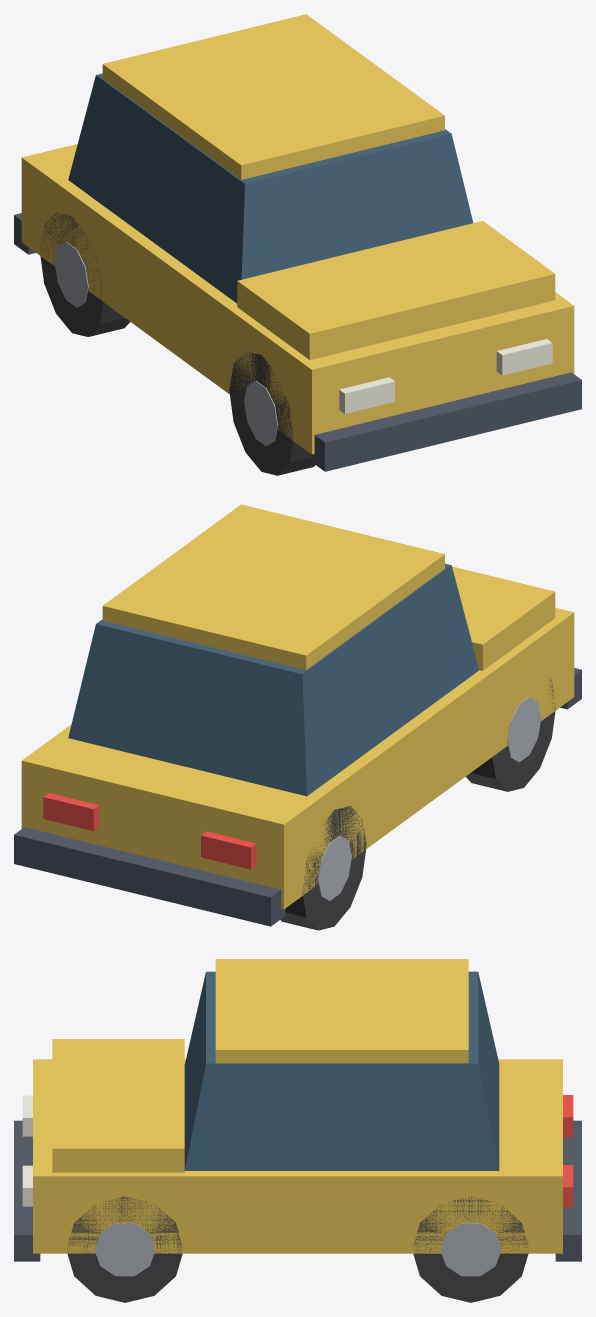
The model's file is traffic_suv_yellow.glb.
3 renders of one model, top to bottom at view 1: azimuth 30°, elevation 25°; view 2: azimuth 150°, elevation 25°; view 3: azimuth 270°, elevation 25°, orthographic. The views are drawn at different scales.
Parts seen in each view (by area): view 1: lower_body, cabin, roof, hood, front_bumper, wheel_L_front_tire, wheel_L_rear_tire, wheel_L_front_rim, wheel_L_rear_rim, headlight_+0.56, headlight_-0.56; view 2: lower_body, cabin, roof, rear_bumper, hood, wheel_L_rear_tire, wheel_L_front_tire, wheel_L_rear_rim, wheel_L_front_rim, taillight_+0.56, taillight_-0.56; view 3: lower_body, cabin, roof, hood, wheel_R_front_tire, wheel_R_rear_tire, wheel_R_rear_rim, wheel_R_front_rim, front_bumper, rear_bumper, taillight_-0.56, taillight_+0.56 (+2 smaller).
Boxes of the visible parts, x1,y1,x2,y2 form: lower_body: (21, 144, 574, 454); cabin: (68, 73, 473, 303); roof: (102, 14, 444, 179); hood: (237, 221, 555, 359); front_bumper: (310, 372, 581, 471); wheel_L_front_tire: (229, 351, 315, 475); wheel_L_rear_tire: (40, 212, 129, 336); wheel_L_front_rim: (244, 381, 278, 445); wheel_L_rear_rim: (54, 242, 88, 307); headlight_+0.56: (496, 339, 552, 375); headlight_-0.56: (339, 377, 394, 413); lower_body: (21, 607, 574, 909); cabin: (68, 563, 479, 796); roof: (102, 504, 444, 669); rear_bumper: (14, 827, 285, 926); hood: (452, 566, 555, 670); wheel_L_rear_tire: (280, 806, 366, 930); wheel_L_front_tire: (465, 678, 555, 791); wheel_L_rear_rim: (317, 835, 351, 900); wheel_L_front_rim: (507, 697, 541, 762); taillight_+0.56: (43, 793, 99, 830); taillight_-0.56: (201, 831, 256, 869); lower_body: (33, 1059, 562, 1253); cabin: (184, 971, 499, 1170); roof: (215, 959, 468, 1063); hood: (52, 1039, 184, 1172); wheel_R_front_tire: (67, 1196, 182, 1302); wheel_R_rear_tire: (413, 1196, 528, 1302); wheel_R_rear_rim: (440, 1223, 501, 1276); wheel_R_front_rim: (94, 1223, 155, 1276); front_bumper: (14, 1120, 40, 1261); rear_bumper: (555, 1120, 581, 1261); taillight_-0.56: (563, 1095, 573, 1137); taillight_+0.56: (563, 1165, 573, 1207).
Bounding box in the file's own units: 1.89 × 1.8 × 3.86.
